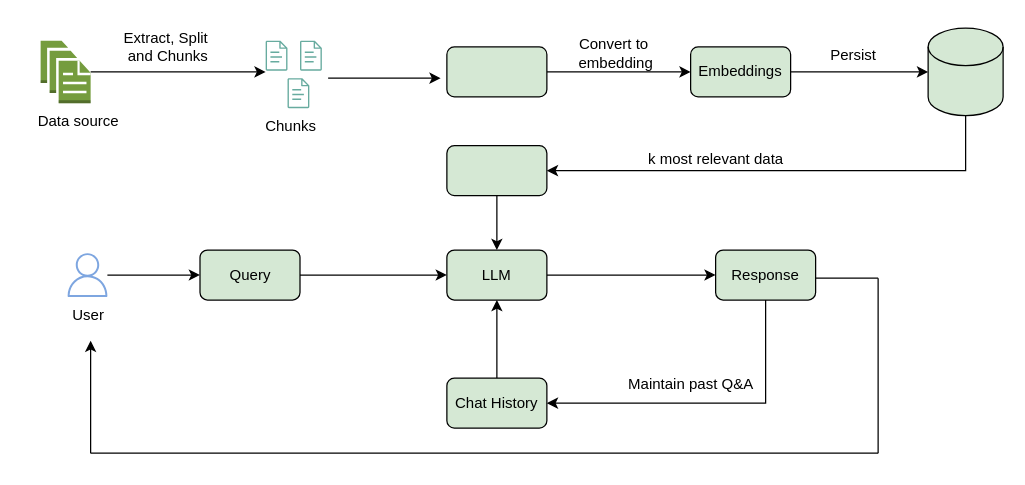
Image size: 1025x485. Some labels were removed from this diagram. The box of each missing label's shape, as (x1, y1, x2, y2) in pixels:
Context: (446, 144, 547, 196)
DB: (927, 27, 1003, 116)
Embedding Model: (446, 46, 547, 97)
